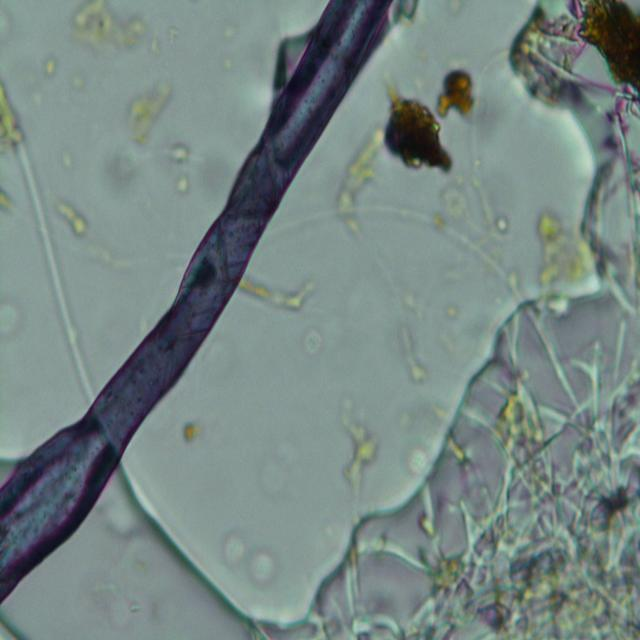Air bubble: (110, 457, 250, 639)
Background material: (367, 312, 640, 640), (510, 0, 639, 107), (442, 184, 514, 269), (384, 95, 456, 176), (537, 201, 599, 294), (336, 125, 390, 231), (336, 398, 380, 506), (72, 0, 148, 56), (124, 80, 174, 151), (220, 534, 280, 590), (241, 278, 315, 311), (435, 70, 478, 121), (98, 148, 140, 200), (396, 318, 428, 385), (0, 82, 26, 152), (55, 199, 89, 240), (298, 324, 324, 362), (0, 302, 24, 341), (167, 142, 191, 166), (0, 187, 18, 219), (181, 417, 204, 442), (41, 56, 59, 83), (173, 172, 190, 195)
Glass filter fibre: (8, 132, 94, 402)
Microfibre: (0, 0, 392, 605)
